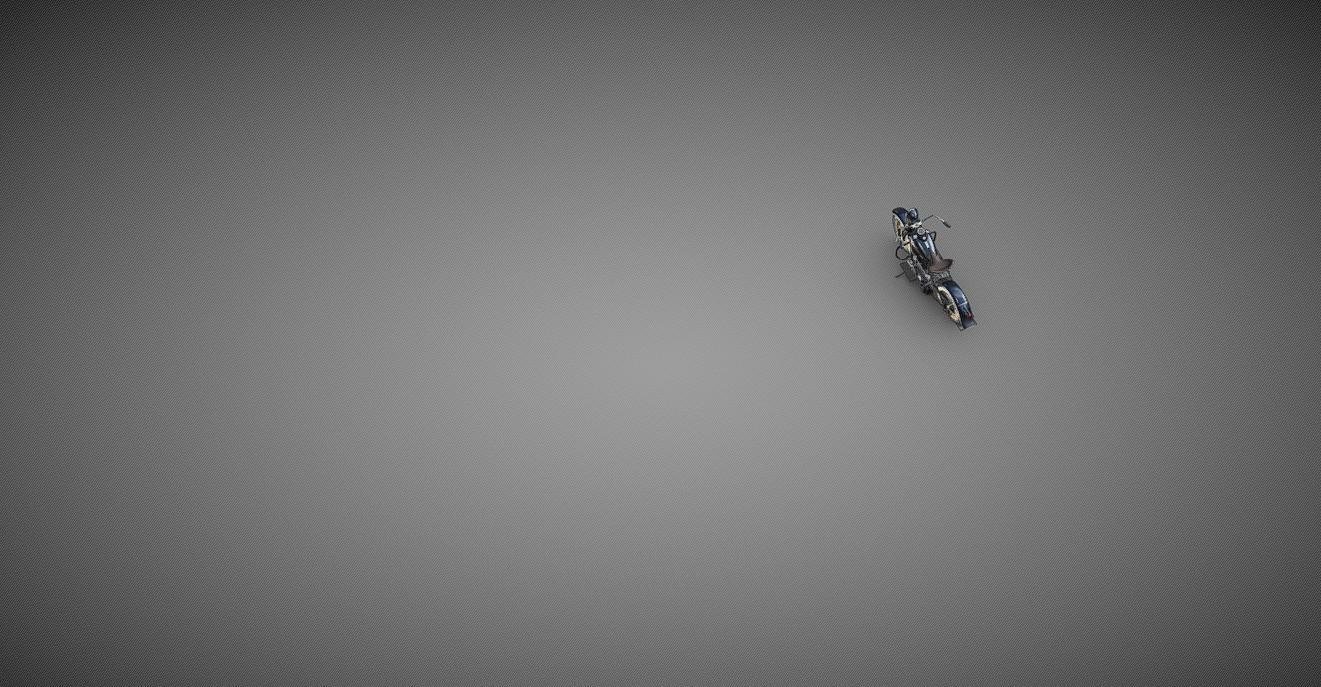Motorcycle: (891, 205, 977, 331)
